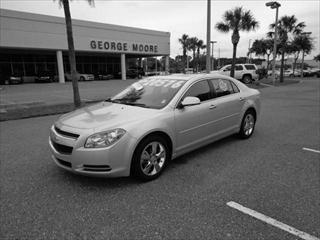car: (51, 74, 264, 185)
